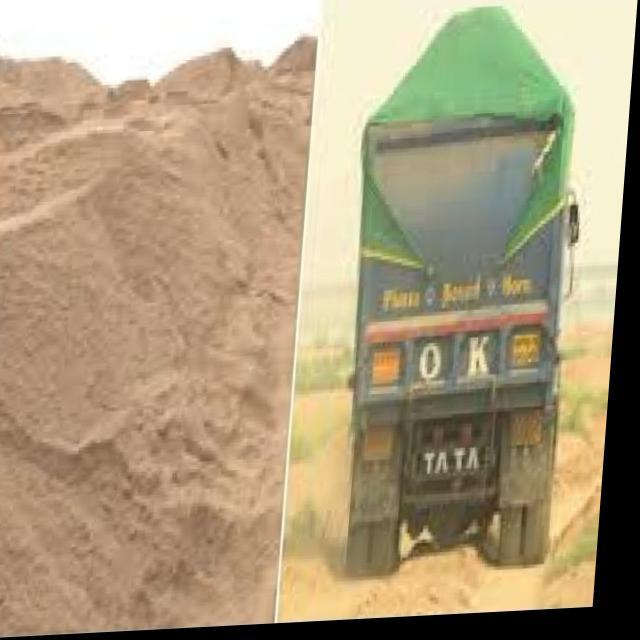covered: (336, 0, 604, 571)
